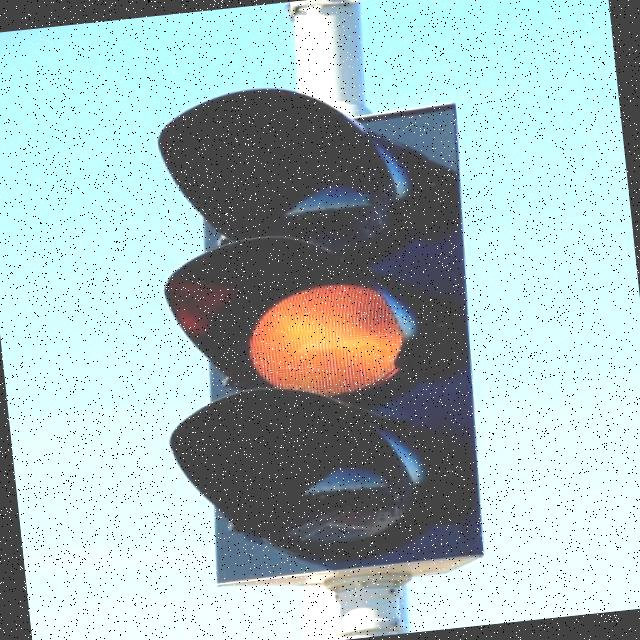Zolte swiatlo: (152, 69, 492, 589)
